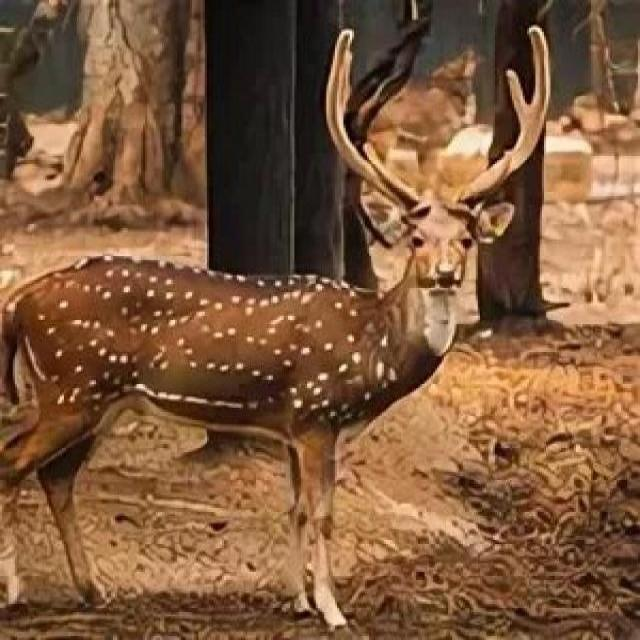deer: (0, 85, 474, 510)
